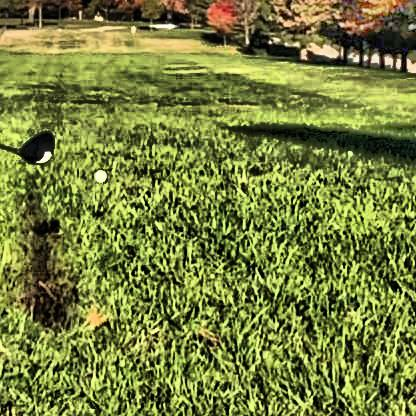golfball: (91, 164, 106, 179)
